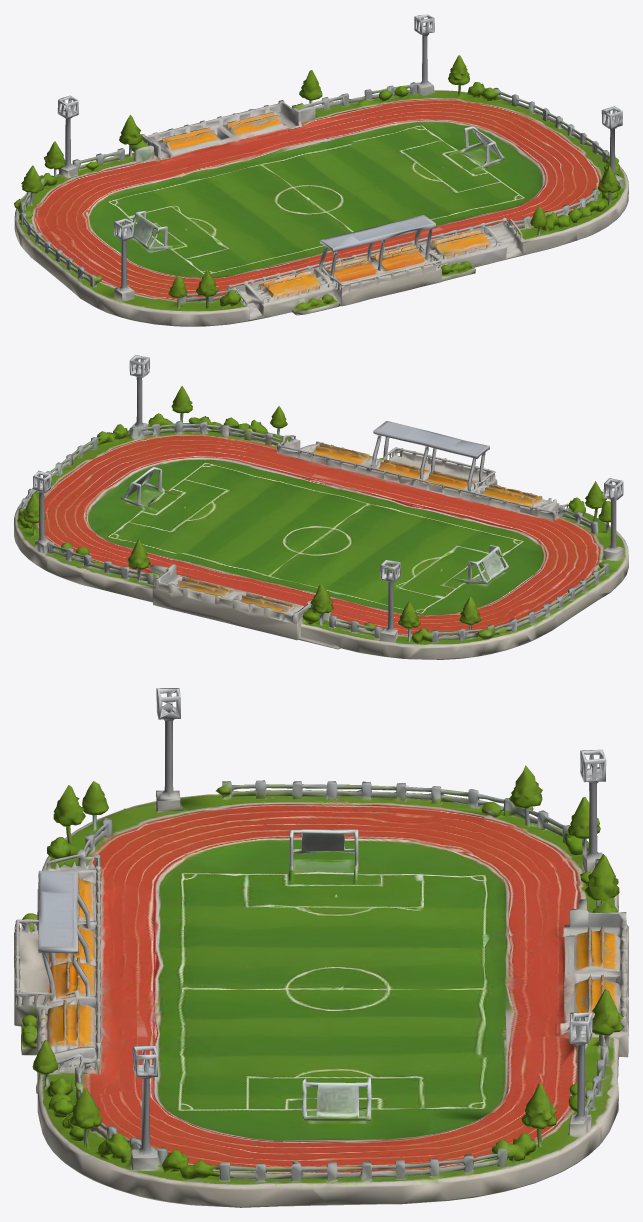
Rendered from stadium.glb.
3 renders of one model, top to bottom at view 1: azimuth 30°, elevation 25°; view 2: azimuth 150°, elevation 25°; view 3: azimuth 270°, elevation 25°, orthographic. The views are drawn at different scales.
Parts seen in each view (by area): view 1: tripo_node_c8a0506d-7f5f-45cc-879d-2f360f78b9b5; view 2: tripo_node_c8a0506d-7f5f-45cc-879d-2f360f78b9b5; view 3: tripo_node_c8a0506d-7f5f-45cc-879d-2f360f78b9b5.
Boxes of the visible parts, left/top/right/bottom form: tripo_node_c8a0506d-7f5f-45cc-879d-2f360f78b9b5: left=14, top=14, right=628, bottom=326; tripo_node_c8a0506d-7f5f-45cc-879d-2f360f78b9b5: left=14, top=355, right=628, bottom=659; tripo_node_c8a0506d-7f5f-45cc-879d-2f360f78b9b5: left=14, top=688, right=628, bottom=1207.
Bounding box in the file's own units: 1 × 0.1626 × 0.6577.
Materials: 1 (1 with a texture image).
